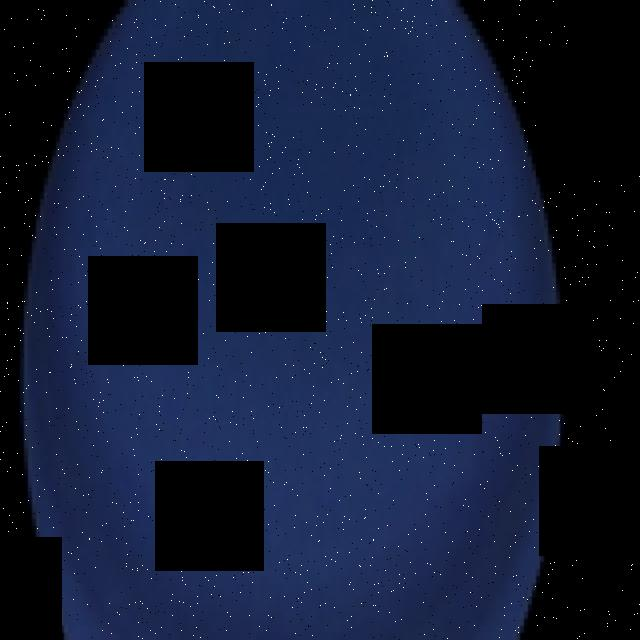Neptune: (16, 0, 564, 640)
